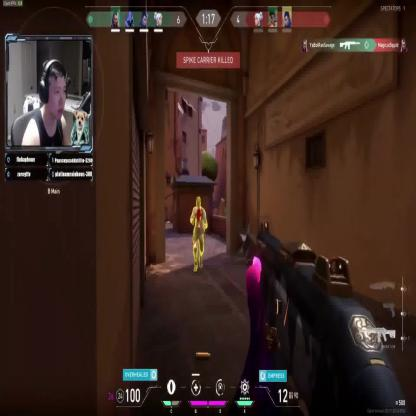enemy: (190, 196, 208, 273)
enemy_head: (196, 196, 201, 208)
